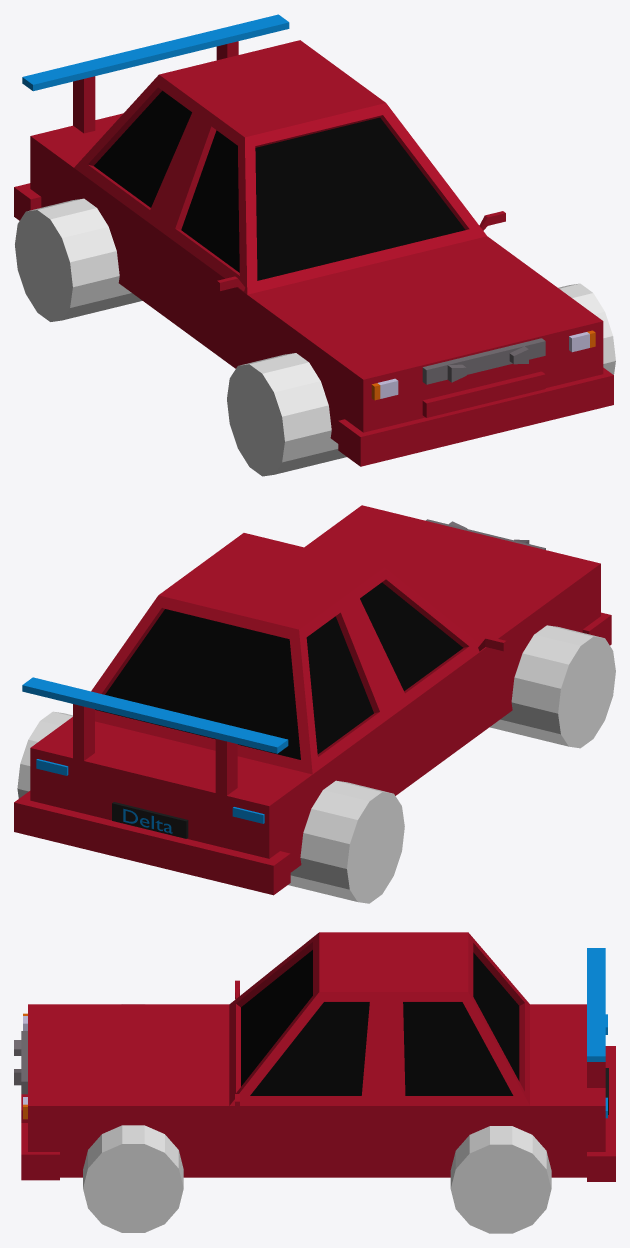
The model's file is Cars.fbx.
3 views of the same model, one above another, from view 1: azimuth 30°, elevation 25°; view 2: azimuth 150°, elevation 25°; view 3: azimuth 270°, elevation 25° (orthographic). The views are drawn at different scales.
Visible parts, largest first — view 1: Cube, Cylinder, Cylinder.002, Cube.008, Cube.005, Cube.001; view 2: Cube, Cylinder.002, Cylinder, Cube.006, Cube.007; view 3: Cube, Cylinder, Cylinder.002, Cube.008.
Part boxes in pixels (x1,y1,x2,y2): Cube: [14, 14, 613, 466]; Cylinder: [227, 283, 615, 476]; Cylinder.002: [15, 198, 142, 321]; Cube.008: [422, 338, 545, 384]; Cube.005: [422, 371, 545, 417]; Cube.001: [371, 330, 595, 400]; Cube: [14, 505, 611, 895]; Cylinder.002: [17, 711, 404, 903]; Cylinder: [490, 625, 615, 748]; Cube.006: [112, 802, 188, 838]; Cube.007: [36, 759, 264, 823]; Cube: [21, 932, 615, 1181]; Cylinder: [83, 1004, 183, 1232]; Cylinder.002: [450, 1126, 551, 1233]; Cube.008: [14, 1031, 27, 1094].
Bounding box in the file's own units: 326 × 219 × 591.
